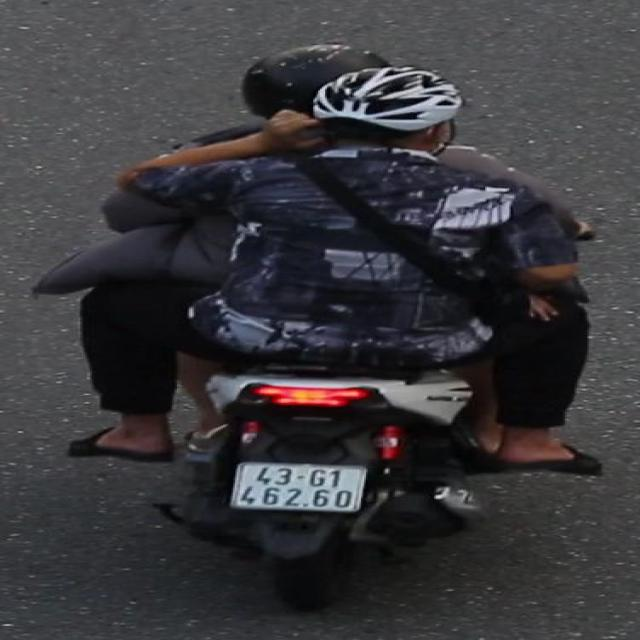LP: (225, 458, 369, 516)
helmet: (310, 65, 470, 170)
